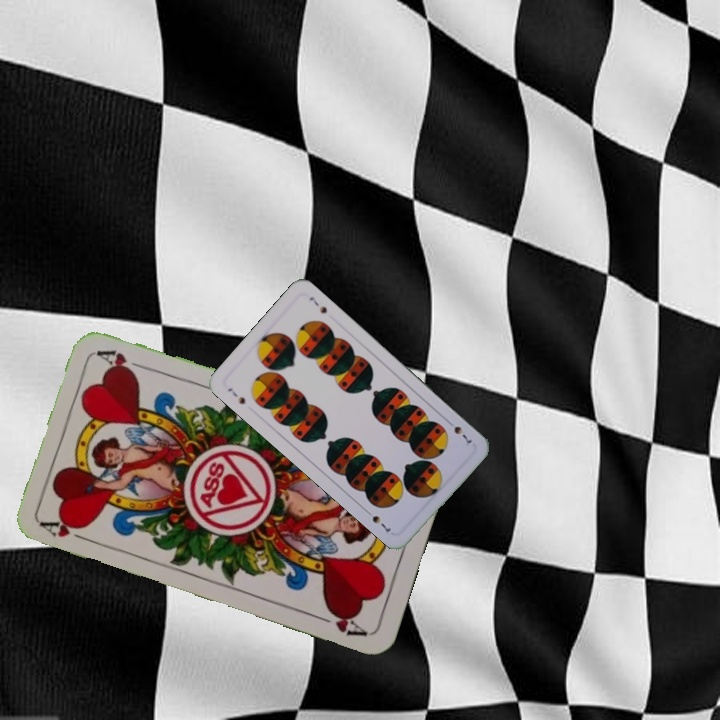HA: (38, 517, 95, 546)
S7: (443, 416, 474, 446), (223, 384, 248, 407)
